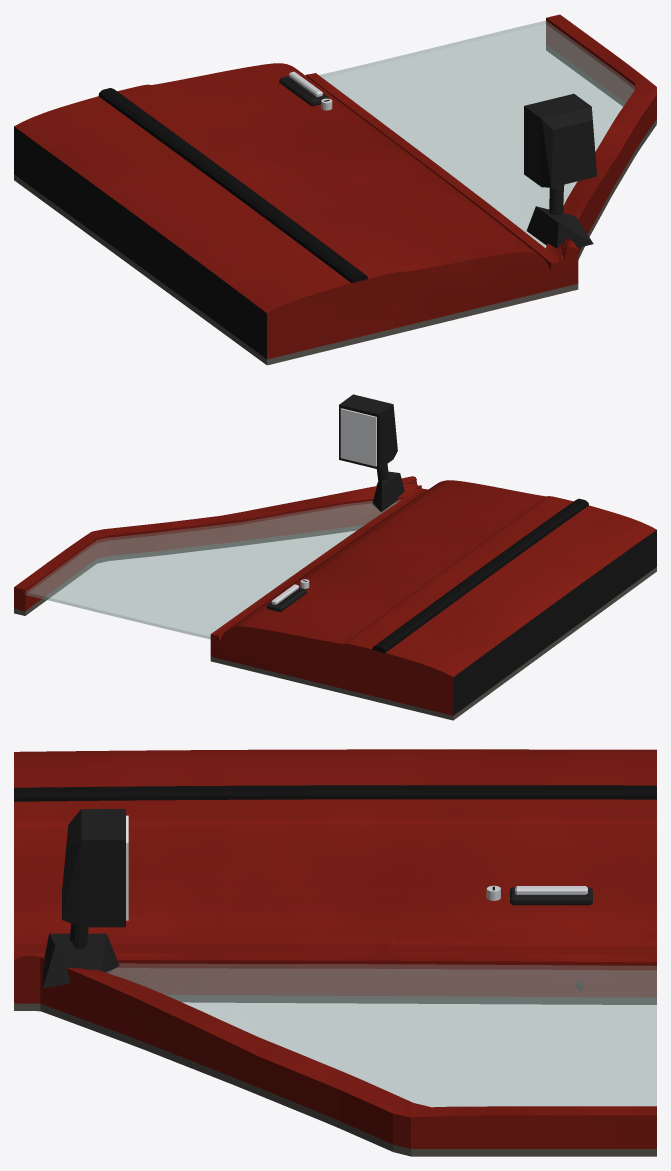
Rendered from porta_dianteira_d_van.glb.
The picture shows the model from 3 angles, top to bottom: view 1: azimuth 30°, elevation 25°; view 2: azimuth 150°, elevation 25°; view 3: azimuth 270°, elevation 25°; orthographic projection. The views are drawn at different scales.
Parts seen in each view (by area): view 1: porta_dianteira_d_van_pintura, porta_dianteira_d_van_vidro, porta_dianteira_d_van_chassi, porta_dianteira_d_van_1_plastico_preto, porta_dianteira_d_van_borracha, porta_dianteira_d_van_forro_porta; view 2: porta_dianteira_d_van_pintura, porta_dianteira_d_van_vidro, porta_dianteira_d_van_chassi, porta_dianteira_d_van_forro_porta, porta_dianteira_d_van_borracha, porta_dianteira_d_van_1_plastico_preto, porta_dianteira_d_van_1_espelho_retrovisor; view 3: porta_dianteira_d_van_pintura, porta_dianteira_d_van_vidro, porta_dianteira_d_van_1_plastico_preto, porta_dianteira_d_van_borracha, porta_dianteira_d_van_forro_porta, porta_dianteira_d_van_plastico_preto, porta_dianteira_d_van_cromado.
Part boxes in pixels (<box>): porta_dianteira_d_van_pintura: <box>14,14,656,359</box>; porta_dianteira_d_van_vidro: <box>319,20,634,247</box>; porta_dianteira_d_van_chassi: <box>14,78,329,358</box>; porta_dianteira_d_van_1_plastico_preto: <box>524,93,596,248</box>; porta_dianteira_d_van_borracha: <box>98,88,367,283</box>; porta_dianteira_d_van_forro_porta: <box>14,44,656,365</box>; porta_dianteira_d_van_pintura: <box>14,476,656,715</box>; porta_dianteira_d_van_vidro: <box>24,500,400,638</box>; porta_dianteira_d_van_chassi: <box>277,530,656,715</box>; porta_dianteira_d_van_forro_porta: <box>14,524,656,720</box>; porta_dianteira_d_van_borracha: <box>372,498,588,653</box>; porta_dianteira_d_van_1_plastico_preto: <box>339,394,404,511</box>; porta_dianteira_d_van_1_espelho_retrovisor: <box>340,408,376,466</box>; porta_dianteira_d_van_pintura: <box>14,749,656,1148</box>; porta_dianteira_d_van_vidro: <box>106,963,656,1107</box>; porta_dianteira_d_van_1_plastico_preto: <box>42,809,125,988</box>; porta_dianteira_d_van_borracha: <box>14,785,656,801</box>; porta_dianteira_d_van_forro_porta: <box>14,994,656,1156</box>; porta_dianteira_d_van_plastico_preto: <box>510,887,592,991</box>; porta_dianteira_d_van_cromado: <box>486,885,587,900</box>.
Size of the model in its own units: 1.25 by 0.3921 by 1.
Materials: 10 (1 with a texture image).
